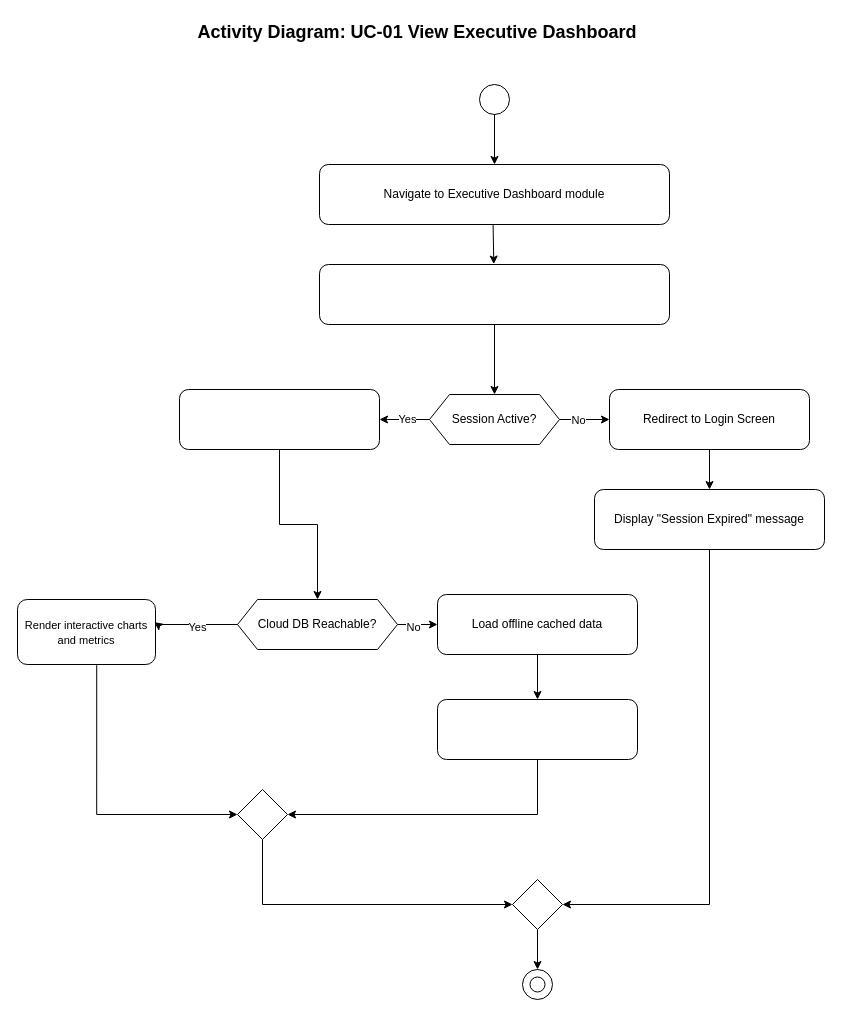
This 842x1017 diagram has some shape labels left out. Each missing label, with the box of its shape:
Authenticate Director RBAC permissions: (318, 264, 670, 324)
Display "Showing Offline Cached Data" warning: (436, 698, 638, 760)
Retrieve real-time sales and inventory data: (178, 388, 380, 450)
